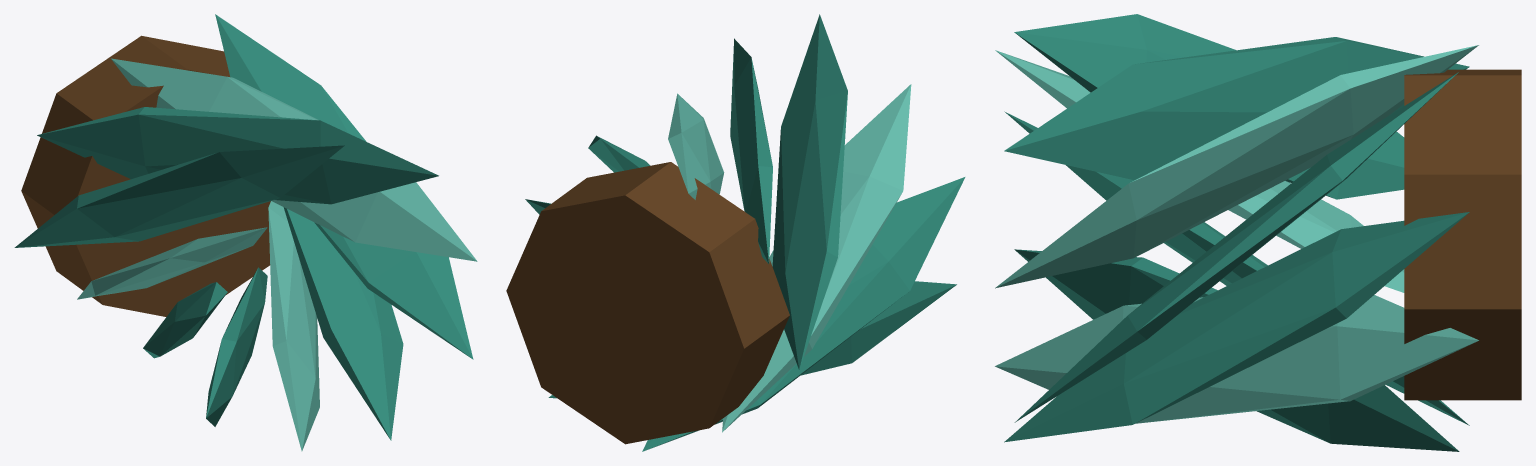
Rendered from 3_growing.obj.
3 renders of one model, left to right at view 1: azimuth 30°, elevation 25°; view 2: azimuth 150°, elevation 25°; view 3: azimuth 270°, elevation 25°, orthographic. The views are drawn at different scales.
Visible parts, largest first — view 1: marrentill_3_growing; view 2: marrentill_3_growing; view 3: marrentill_3_growing.
Part boxes in pixels (box(x1,y1,x2,y2)): marrentill_3_growing: box(14, 14, 477, 451); marrentill_3_growing: box(506, 14, 965, 451); marrentill_3_growing: box(995, 14, 1521, 451).
Size of the model in its own units: 0.1511 by 0.1483 by 0.1797.
